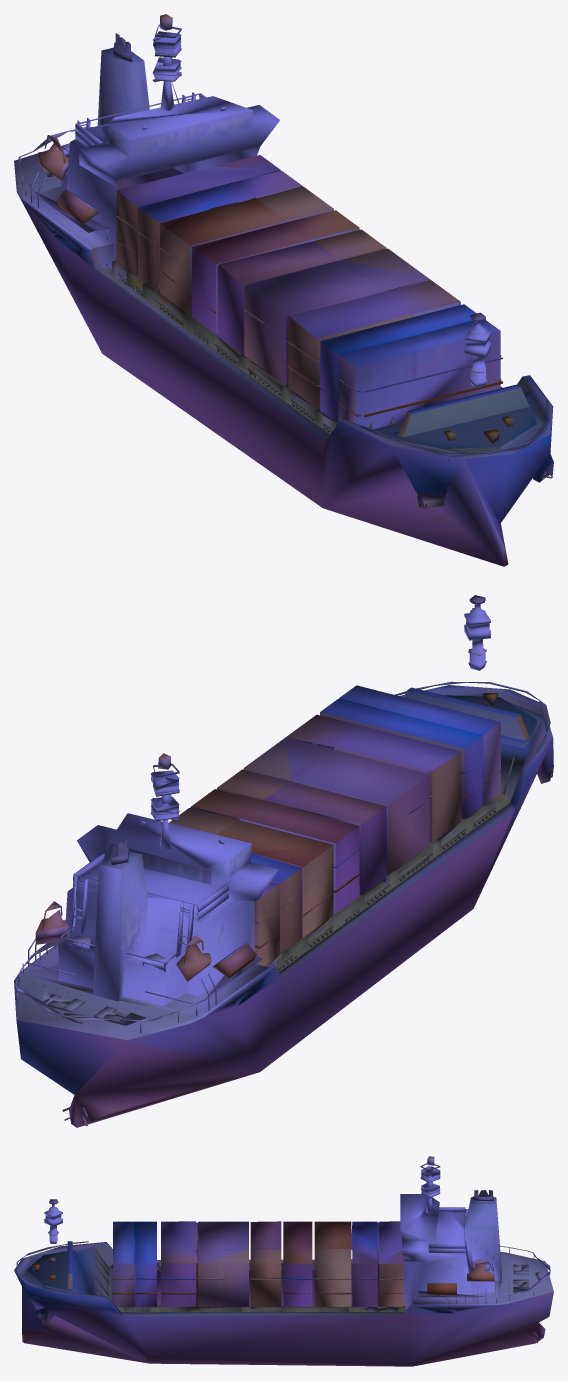
Rendered from model.progressive.glb.
3 renders of one model, top to bottom at view 1: azimuth 30°, elevation 25°; view 2: azimuth 150°, elevation 25°; view 3: azimuth 270°, elevation 25°, orthographic. The views are drawn at different scales.
Visible parts, largest first — view 1: material; view 2: material; view 3: material.
Boxes of the visible parts, x1,y1,x2,y2 form: material: (14,14,553,566); material: (14,595,553,1127); material: (14,1156,553,1366).
Bounding box in the file's own units: 0.4633 × 0.7081 × 1.87.
Materials: 1 (1 with a texture image).
